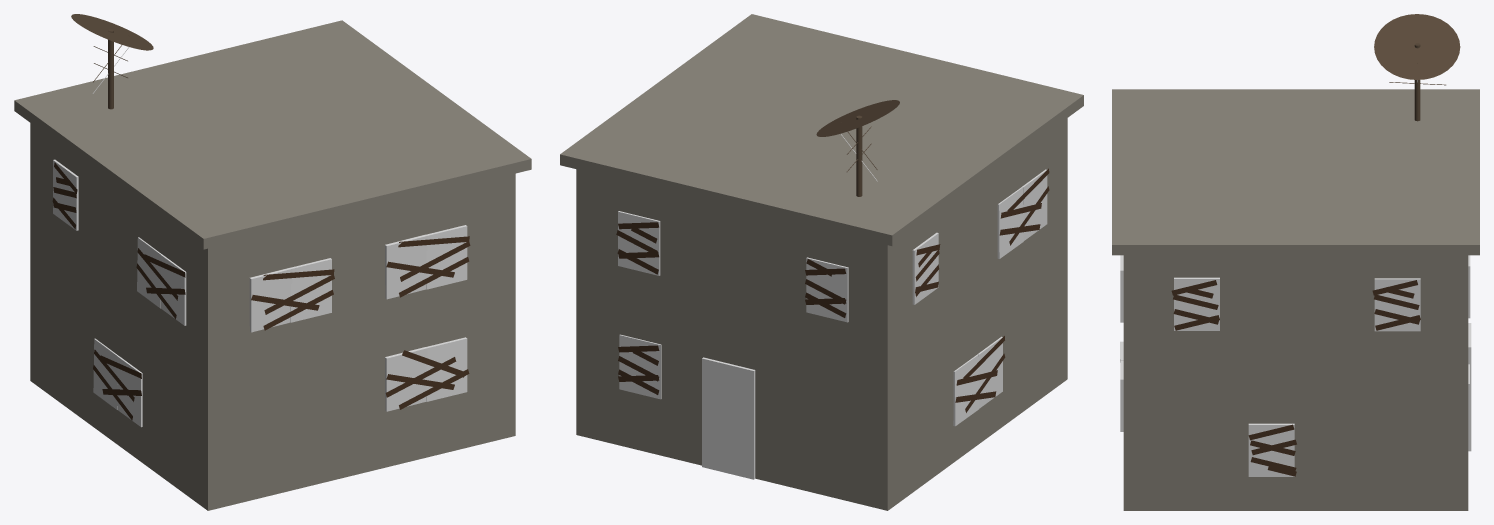
File: startbasetest.glb
3 views of the same model, side by side, from view 1: azimuth 30°, elevation 25°; view 2: azimuth 150°, elevation 25°; view 3: azimuth 270°, elevation 25° (orthographic). The views are drawn at different scales.
Visible parts, largest first — view 1: dach, erdgeschos, 1 stock, fenster .013, fenster .010, fenster .007, fenster .006, fenster .009, fenster .012, Circle, fenster .014, fenster .016 (+3 smaller); view 2: dach, erdgeschos, 1 stock, haustüre, fenster .001, fenster, fenster .002, Circle, fenster .015, fenster .017, fenster .018, fenster .014 (+1 smaller); view 3: dach, erdgeschos, 1 stock, Circle, fenster .005, fenster .003, fenster .004.
Part boxes in pixels (x1=…): dach: x1=14, y1=20, x2=531, y2=249; erdgeschos: x1=30, y1=247, x2=515, y2=510; 1 stock: x1=30, y1=123, x2=515, y2=376; fenster .013: x1=249, y1=267, x2=292, y2=332; fenster .010: x1=385, y1=234, x2=427, y2=299; fenster .007: x1=385, y1=347, x2=427, y2=411; fenster .006: x1=426, y1=337, x2=467, y2=401; fenster .009: x1=426, y1=225, x2=467, y2=289; fenster .012: x1=290, y1=258, x2=331, y2=322; Circle: x1=71, y1=14, x2=153, y2=50; fenster .014: x1=161, y1=254, x2=186, y2=325; fenster .016: x1=117, y1=356, x2=142, y2=427; dach: x1=560, y1=14, x2=1083, y2=245; erdgeschos: x1=576, y1=244, x2=1067, y2=510; 1 stock: x1=576, y1=118, x2=1067, y2=374; haustüre: x1=702, y1=357, x2=755, y2=479; fenster .001: x1=806, y1=257, x2=848, y2=322; fenster: x1=619, y1=334, x2=661, y2=399; fenster .002: x1=618, y1=211, x2=660, y2=275; Circle: x1=816, y1=100, x2=899, y2=136; fenster .015: x1=997, y1=187, x2=1023, y2=258; fenster .017: x1=953, y1=354, x2=979, y2=426; fenster .018: x1=912, y1=232, x2=938, y2=304; fenster .014: x1=1022, y1=169, x2=1047, y2=240; dach: x1=1112, y1=89, x2=1479, y2=255; erdgeschos: x1=1123, y1=380, x2=1468, y2=510; 1 stock: x1=1123, y1=255, x2=1468, y2=380; Circle: x1=1374, y1=14, x2=1460, y2=79; fenster .005: x1=1248, y1=423, x2=1294, y2=476; fenster .003: x1=1374, y1=278, x2=1420, y2=331; fenster .004: x1=1174, y1=277, x2=1219, y2=330.
Bounding box in the file's own units: 6.4 × 6.93 × 6.4.
